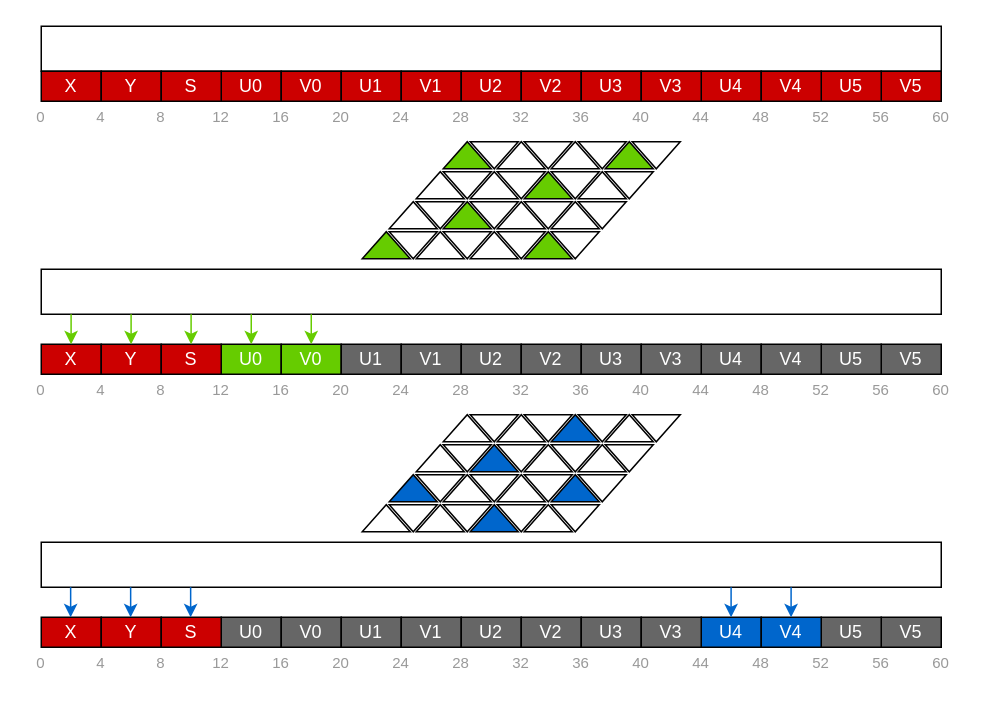
Image size: 981x704. Some labels were removed from this diagram. Here are the shapes that lost their labels. From the top down, the box of each, then its label:
(40, 25, 941, 71): VERTEX
(40, 268, 941, 314): VERTEX LAYOUT [ 0 ] & INDEX BUFFER [ 0 ]
(40, 541, 941, 587): VERTEX LAYOUT [ 4 ] & INDEX BUFFER [ 4 ]
